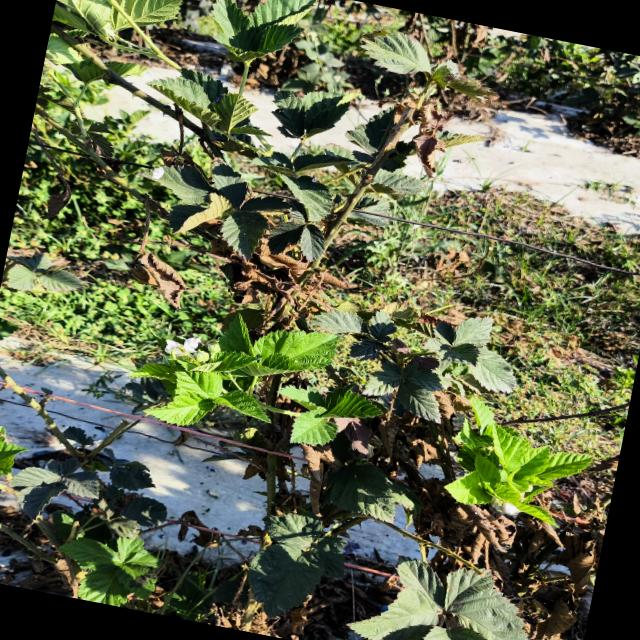boton: (194, 351, 210, 363), (207, 342, 221, 355)
flor: (165, 337, 201, 357)
